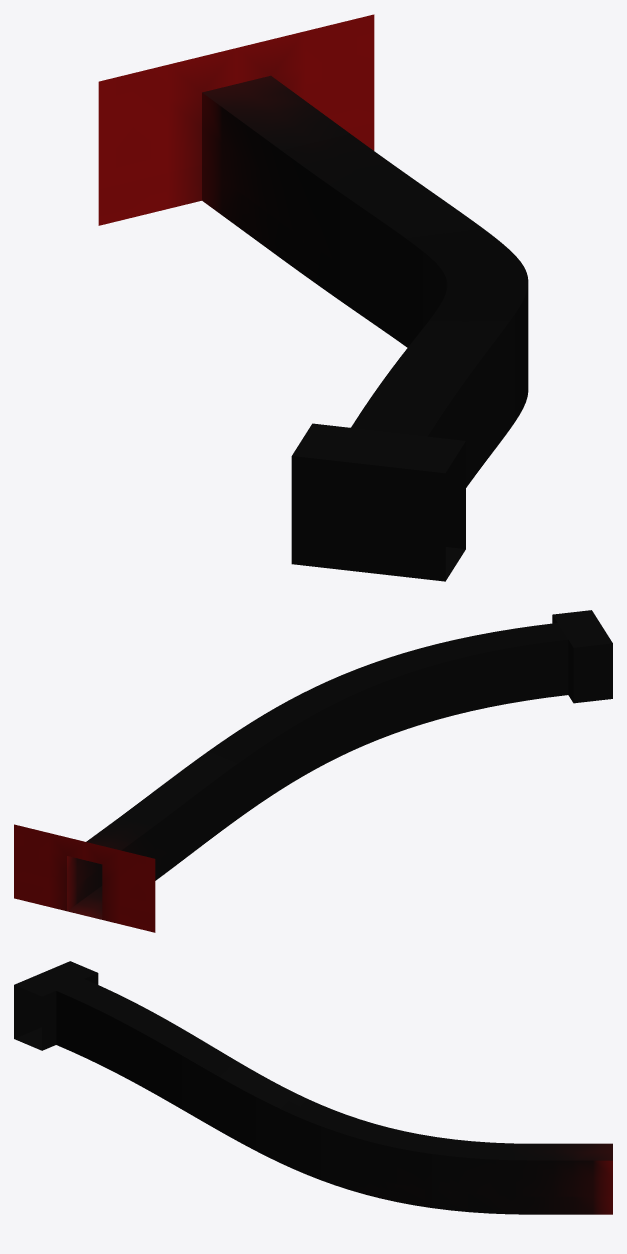
File: castle_sanctum_access.obj
3 views of the same model, one above another, from view 1: azimuth 30°, elevation 25°; view 2: azimuth 150°, elevation 25°; view 3: azimuth 270°, elevation 25° (orthographic). The views are drawn at different scales.
Visible parts, largest first — view 1: AccessUpperWall, AccessCeiling, AccesLowerWall; view 2: AccessUpperWall, AccessCeiling, AccesLowerWall, AccessFloor; view 3: AccessUpperWall, AccessCeiling, AccesLowerWall.
Part boxes in pixels (x1,y1,x2,y2): AccessUpperWall: [98, 14, 528, 545]; AccessCeiling: [202, 75, 528, 473]; AccesLowerWall: [98, 122, 528, 581]; AccessUpperWall: [14, 615, 612, 914]; AccessCeiling: [86, 610, 612, 850]; AccesLowerWall: [14, 676, 612, 932]; AccessFloor: [67, 886, 102, 919]; AccessUpperWall: [14, 973, 612, 1196]; AccessCeiling: [14, 961, 612, 1160]; AccesLowerWall: [14, 1009, 612, 1214].
Size of the model in its own units: 18.14 by 7 by 30.1.
